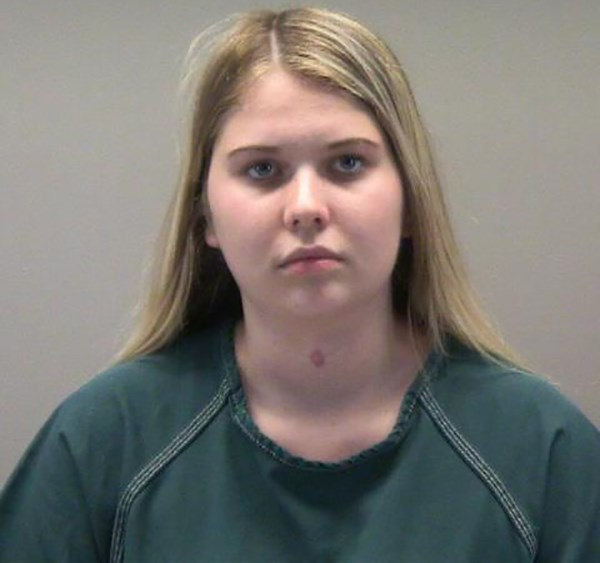person: (1, 5, 600, 563)
